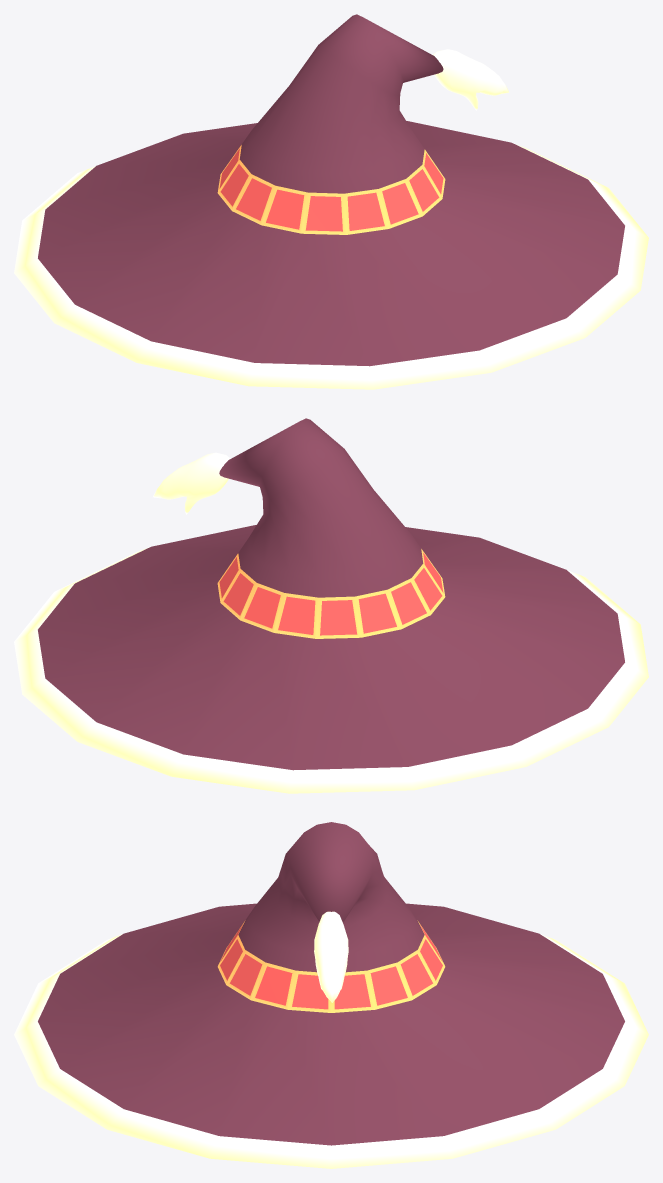
File: ExplosionHat.fbx
3 views of the same model, one above another, from view 1: azimuth 30°, elevation 25°; view 2: azimuth 150°, elevation 25°; view 3: azimuth 270°, elevation 25° (orthographic).
Visible parts, largest first — view 1: ExplosionHat; view 2: ExplosionHat; view 3: ExplosionHat.
Boxes of the visible parts, x1,y1,x2,y2 form: ExplosionHat: (14,14,648,389); ExplosionHat: (14,418,648,793); ExplosionHat: (14,822,648,1168).
Size of the model in its own units: 265 by 105 by 265.
